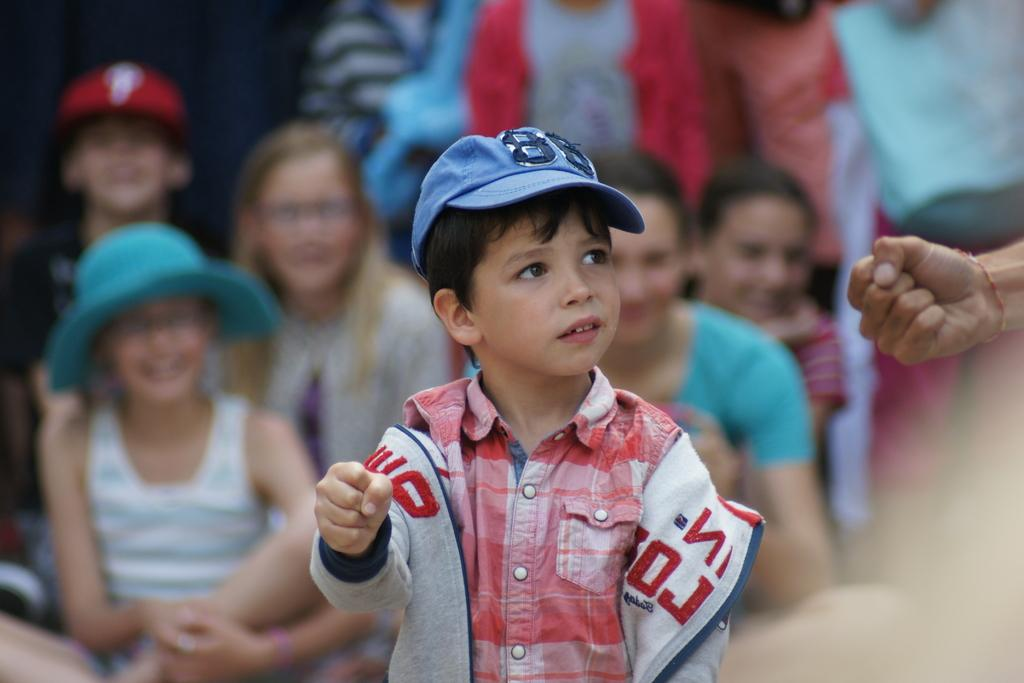Hat: (50, 221, 278, 394), (410, 121, 644, 284), (52, 65, 191, 140)
